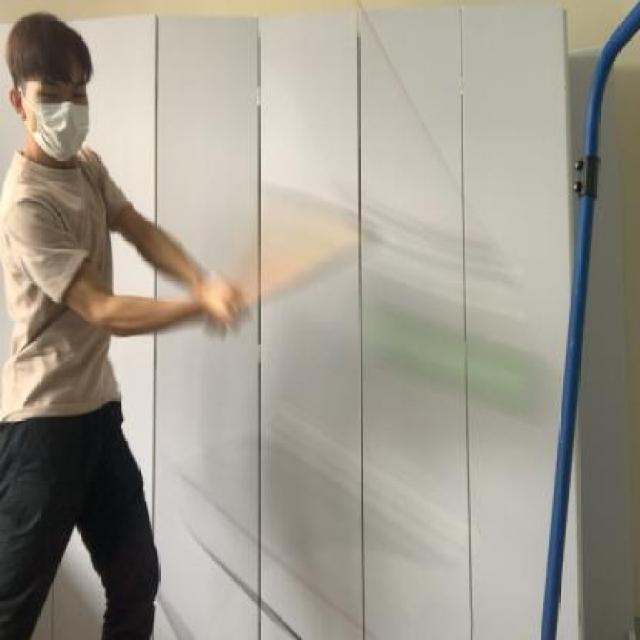baseball: (350, 296, 558, 426)
